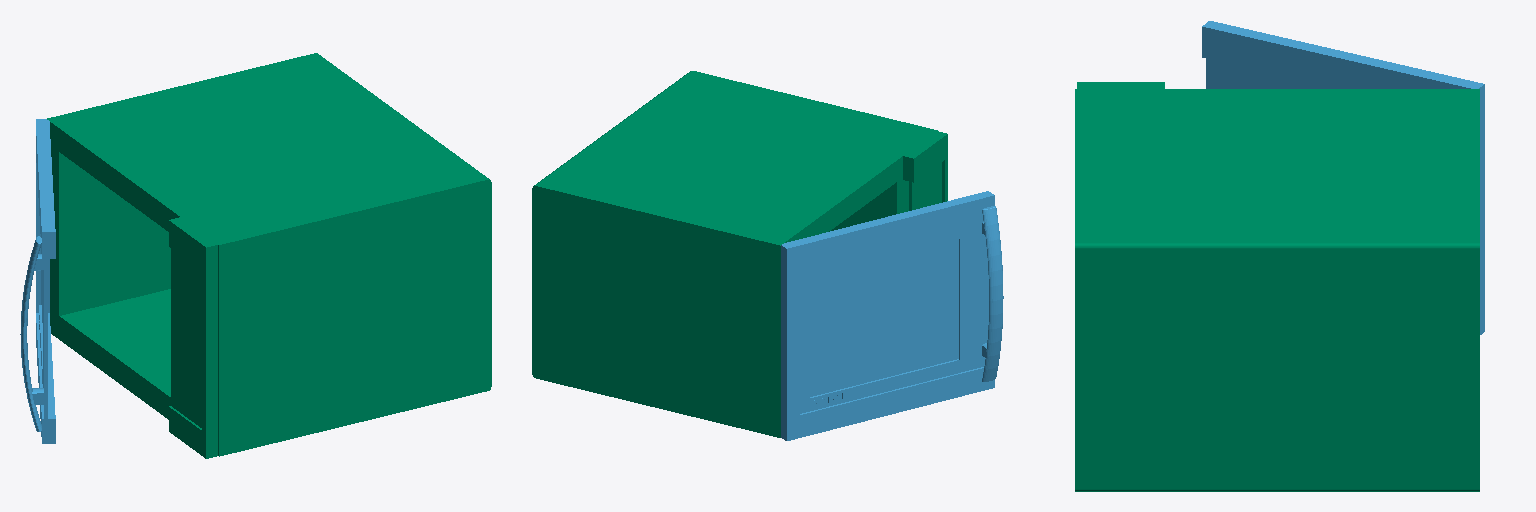
URDF robot description (partnet_c3bb5f3c842a6c2d178e7d331e641179):
<?xml version='1.0' encoding='UTF-8'?>
<robot name="partnet_c3bb5f3c842a6c2d178e7d331e641179">
  <link name="base">
    <inertial>
      <origin xyz="0.0 0.0 0.0" rpy="0.0 -0.0 0.0"/>
      <mass value="1.0"/>
      <inertia ixx="1.0" ixy="0.0" ixz="0.0" iyy="1.0" iyz="0.0" izz="1.0"/>
    </inertial>
  </link>
  <link name="link_0">
    <inertial>
      <origin xyz="0.0 0.0 0.0" rpy="0.0 -0.0 0.0"/>
      <mass value="1.0"/>
      <inertia ixx="1.0" ixy="0.0" ixz="0.0" iyy="1.0" iyz="0.0" izz="1.0"/>
    </inertial>
    <visual name="door_frame-6">
      <geometry>
        <mesh filename="textured_objs/original-1.obj"/>
      </geometry>
      <origin xyz="0.6430403380134146 0.42593899369239807 -0.5477944794777341" rpy="0.0 -0.0 0.0"/>
    </visual>
    <visual name="door_frame-6">
      <geometry>
        <mesh filename="textured_objs/original-8.obj"/>
      </geometry>
      <origin xyz="0.6430403380134146 0.42593899369239807 -0.5477944794777341" rpy="0.0 -0.0 0.0"/>
    </visual>
    <visual name="door_frame-6">
      <geometry>
        <mesh filename="textured_objs/original-16.obj"/>
      </geometry>
      <origin xyz="0.6430403380134146 0.42593899369239807 -0.5477944794777341" rpy="0.0 -0.0 0.0"/>
    </visual>
    <visual name="door_frame-6">
      <geometry>
        <mesh filename="textured_objs/original-9.obj"/>
      </geometry>
      <origin xyz="0.6430403380134146 0.42593899369239807 -0.5477944794777341" rpy="0.0 -0.0 0.0"/>
    </visual>
    <visual name="door_frame-6">
      <geometry>
        <mesh filename="textured_objs/original-10.obj"/>
      </geometry>
      <origin xyz="0.6430403380134146 0.42593899369239807 -0.5477944794777341" rpy="0.0 -0.0 0.0"/>
    </visual>
    <visual name="door_frame-6">
      <geometry>
        <mesh filename="textured_objs/original-11.obj"/>
      </geometry>
      <origin xyz="0.6430403380134146 0.42593899369239807 -0.5477944794777341" rpy="0.0 -0.0 0.0"/>
    </visual>
    <visual name="door_frame-6">
      <geometry>
        <mesh filename="textured_objs/original-12.obj"/>
      </geometry>
      <origin xyz="0.6430403380134146 0.42593899369239807 -0.5477944794777341" rpy="0.0 -0.0 0.0"/>
    </visual>
    <visual name="door_frame-6">
      <geometry>
        <mesh filename="textured_objs/original-13.obj"/>
      </geometry>
      <origin xyz="0.6430403380134146 0.42593899369239807 -0.5477944794777341" rpy="0.0 -0.0 0.0"/>
    </visual>
    <visual name="door_frame-6">
      <geometry>
        <mesh filename="textured_objs/original-14.obj"/>
      </geometry>
      <origin xyz="0.6430403380134146 0.42593899369239807 -0.5477944794777341" rpy="0.0 -0.0 0.0"/>
    </visual>
    <visual name="door_frame-6">
      <geometry>
        <mesh filename="textured_objs/original-15.obj"/>
      </geometry>
      <origin xyz="0.6430403380134146 0.42593899369239807 -0.5477944794777341" rpy="0.0 -0.0 0.0"/>
    </visual>
    <visual name="door_frame-6">
      <geometry>
        <mesh filename="textured_objs/original-3.obj"/>
      </geometry>
      <origin xyz="0.6430403380134146 0.42593899369239807 -0.5477944794777341" rpy="0.0 -0.0 0.0"/>
    </visual>
    <visual name="glass-7">
      <geometry>
        <mesh filename="textured_objs/original-6.obj"/>
      </geometry>
      <origin xyz="0.6430403380134146 0.42593899369239807 -0.5477944794777341" rpy="0.0 -0.0 0.0"/>
    </visual>
    <visual name="handle-8">
      <geometry>
        <mesh filename="textured_objs/original-18.obj"/>
      </geometry>
      <origin xyz="0.6430403380134146 0.42593899369239807 -0.5477944794777341" rpy="0.0 -0.0 0.0"/>
    </visual>
    <visual name="handle-8">
      <geometry>
        <mesh filename="textured_objs/original-20.obj"/>
      </geometry>
      <origin xyz="0.6430403380134146 0.42593899369239807 -0.5477944794777341" rpy="0.0 -0.0 0.0"/>
    </visual>
    <visual name="handle-8">
      <geometry>
        <mesh filename="textured_objs/original-19.obj"/>
      </geometry>
      <origin xyz="0.6430403380134146 0.42593899369239807 -0.5477944794777341" rpy="0.0 -0.0 0.0"/>
    </visual>
    <collision>
      <geometry>
        <mesh filename="textured_objs/original-1.obj"/>
      </geometry>
      <origin xyz="0.6430403380134146 0.42593899369239807 -0.5477944794777341" rpy="0.0 -0.0 0.0"/>
    </collision>
    <collision>
      <geometry>
        <mesh filename="textured_objs/original-8.obj"/>
      </geometry>
      <origin xyz="0.6430403380134146 0.42593899369239807 -0.5477944794777341" rpy="0.0 -0.0 0.0"/>
    </collision>
    <collision>
      <geometry>
        <mesh filename="textured_objs/original-16.obj"/>
      </geometry>
      <origin xyz="0.6430403380134146 0.42593899369239807 -0.5477944794777341" rpy="0.0 -0.0 0.0"/>
    </collision>
    <collision>
      <geometry>
        <mesh filename="textured_objs/original-9.obj"/>
      </geometry>
      <origin xyz="0.6430403380134146 0.42593899369239807 -0.5477944794777341" rpy="0.0 -0.0 0.0"/>
    </collision>
    <collision>
      <geometry>
        <mesh filename="textured_objs/original-10.obj"/>
      </geometry>
      <origin xyz="0.6430403380134146 0.42593899369239807 -0.5477944794777341" rpy="0.0 -0.0 0.0"/>
    </collision>
    <collision>
      <geometry>
        <mesh filename="textured_objs/original-11.obj"/>
      </geometry>
      <origin xyz="0.6430403380134146 0.42593899369239807 -0.5477944794777341" rpy="0.0 -0.0 0.0"/>
    </collision>
    <collision>
      <geometry>
        <mesh filename="textured_objs/original-12.obj"/>
      </geometry>
      <origin xyz="0.6430403380134146 0.42593899369239807 -0.5477944794777341" rpy="0.0 -0.0 0.0"/>
    </collision>
    <collision>
      <geometry>
        <mesh filename="textured_objs/original-13.obj"/>
      </geometry>
      <origin xyz="0.6430403380134146 0.42593899369239807 -0.5477944794777341" rpy="0.0 -0.0 0.0"/>
    </collision>
    <collision>
      <geometry>
        <mesh filename="textured_objs/original-14.obj"/>
      </geometry>
      <origin xyz="0.6430403380134146 0.42593899369239807 -0.5477944794777341" rpy="0.0 -0.0 0.0"/>
    </collision>
    <collision>
      <geometry>
        <mesh filename="textured_objs/original-15.obj"/>
      </geometry>
      <origin xyz="0.6430403380134146 0.42593899369239807 -0.5477944794777341" rpy="0.0 -0.0 0.0"/>
    </collision>
    <collision>
      <geometry>
        <mesh filename="textured_objs/original-3.obj"/>
      </geometry>
      <origin xyz="0.6430403380134146 0.42593899369239807 -0.5477944794777341" rpy="0.0 -0.0 0.0"/>
    </collision>
    <collision>
      <geometry>
        <mesh filename="textured_objs/original-6.obj"/>
      </geometry>
      <origin xyz="0.6430403380134146 0.42593899369239807 -0.5477944794777341" rpy="0.0 -0.0 0.0"/>
    </collision>
    <collision>
      <geometry>
        <mesh filename="textured_objs/original-18.obj"/>
      </geometry>
      <origin xyz="0.6430403380134146 0.42593899369239807 -0.5477944794777341" rpy="0.0 -0.0 0.0"/>
    </collision>
    <collision>
      <geometry>
        <mesh filename="textured_objs/original-20.obj"/>
      </geometry>
      <origin xyz="0.6430403380134146 0.42593899369239807 -0.5477944794777341" rpy="0.0 -0.0 0.0"/>
    </collision>
    <collision>
      <geometry>
        <mesh filename="textured_objs/original-19.obj"/>
      </geometry>
      <origin xyz="0.6430403380134146 0.42593899369239807 -0.5477944794777341" rpy="0.0 -0.0 0.0"/>
    </collision>
  </link>
  <link name="link_1">
    <inertial>
      <origin xyz="0.0 0.0 0.0" rpy="0.0 -0.0 0.0"/>
      <mass value="1.0"/>
      <inertia ixx="1.0" ixy="0.0" ixz="0.0" iyy="1.0" iyz="0.0" izz="1.0"/>
    </inertial>
    <visual name="frame-2">
      <geometry>
        <mesh filename="textured_objs/original-4.obj"/>
      </geometry>
      <origin xyz="0.0 0.0 0.0" rpy="0.0 -0.0 0.0"/>
    </visual>
    <visual name="frame-2">
      <geometry>
        <mesh filename="textured_objs/original-2.obj"/>
      </geometry>
      <origin xyz="0.0 0.0 0.0" rpy="0.0 -0.0 0.0"/>
    </visual>
    <visual name="display_panel-5">
      <geometry>
        <mesh filename="textured_objs/original-5.obj"/>
      </geometry>
      <origin xyz="0.0 0.0 0.0" rpy="0.0 -0.0 0.0"/>
    </visual>
    <collision>
      <geometry>
        <mesh filename="textured_objs/original-4.obj"/>
      </geometry>
      <origin xyz="0.0 0.0 0.0" rpy="0.0 -0.0 0.0"/>
    </collision>
    <collision>
      <geometry>
        <mesh filename="textured_objs/original-2.obj"/>
      </geometry>
      <origin xyz="0.0 0.0 0.0" rpy="0.0 -0.0 0.0"/>
    </collision>
    <collision>
      <geometry>
        <mesh filename="textured_objs/original-5.obj"/>
      </geometry>
      <origin xyz="0.0 0.0 0.0" rpy="0.0 -0.0 0.0"/>
    </collision>
  </link>
  <joint name="joint_0" type="revolute">
    <limit lower="0.0" upper="1.5707963267948966"/>
    <parent link="link_1"/>
    <child link="link_0"/>
    <axis xyz=" 0. -1.  0."/>
    <origin xyz="-0.6430403380134146 -0.42593899369239807 0.5477944794777341" rpy="0.0 -0.49999999999999994 0.0"/>
  </joint>
  <joint name="joint_1" type="fixed">
    <parent link="base"/>
    <child link="link_1"/>
    <axis xyz="1. 0. 0."/>
    <origin xyz="0.0 0.0 0.0" rpy="1.570796326794897 0.0 -1.570796326794897"/>
  </joint>
</robot>

--- What the picture shows (computed from the rendered views, not written in the file) ---
The picture shows the robot from 3 angles, left to right: view 1: azimuth 30°, elevation 25°; view 2: azimuth 150°, elevation 25°; view 3: azimuth 270°, elevation 25°; orthographic projection.
Model partnet_c3bb5f3c842a6c2d178e7d331e641179 with 3 links and 2 joints (1 revolute, 1 fixed), rooted at base, posed every joint at zero.
Links seen in each view (by area): view 1: link_1, link_0; view 2: link_1, link_0; view 3: link_1, link_0.
Boxes of the visible links, x1,y1,x2,y2 form: link_1: (47,53,491,458); link_0: (20,119,55,443); link_1: (532,71,947,437); link_0: (781,191,1003,440); link_1: (1075,82,1479,491); link_0: (1202,21,1484,334).
Bounding box of the posed robot: 1.79 × 1.33 × 0.8896 m (x, y, z).
18 mesh visuals loaded from 18 distinct referenced files (18 OBJ).